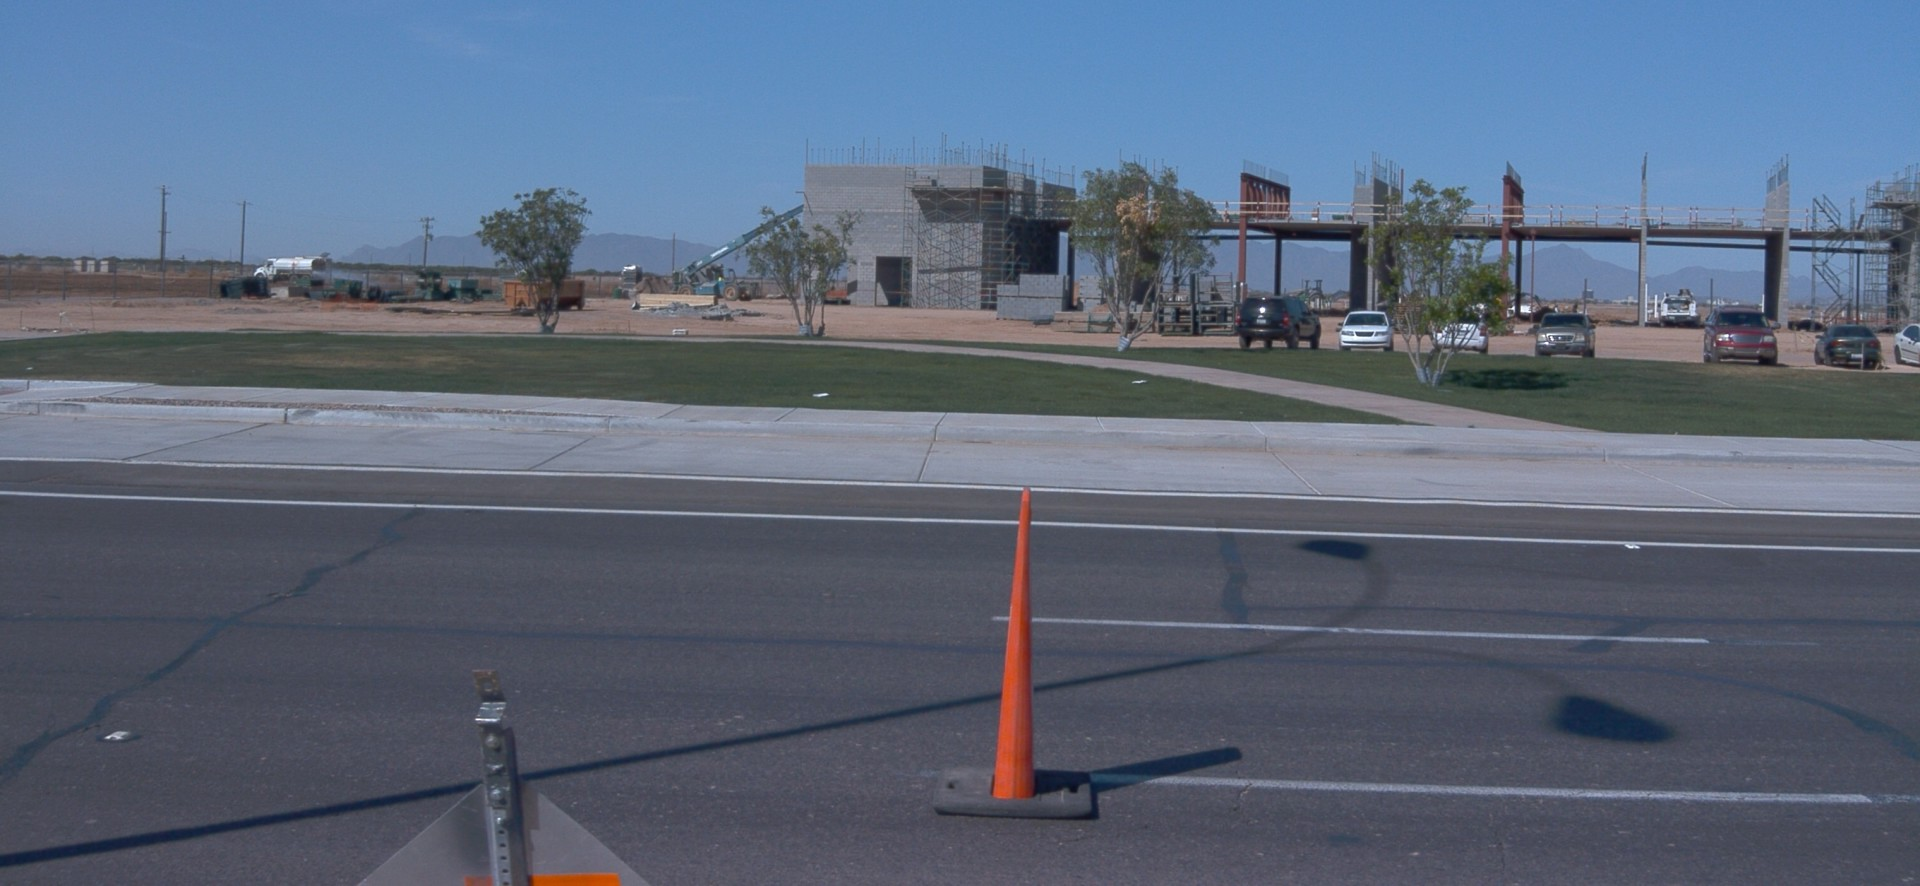TYPE_VEHICLE: (667, 195, 805, 300), (1236, 292, 1323, 351), (1704, 310, 1783, 369), (1534, 314, 1599, 363), (1818, 325, 1886, 370), (1438, 306, 1495, 352), (251, 255, 327, 289), (1337, 309, 1395, 353), (1660, 287, 1704, 332), (1894, 325, 1920, 370), (1494, 291, 1544, 314), (1289, 280, 1328, 308)
